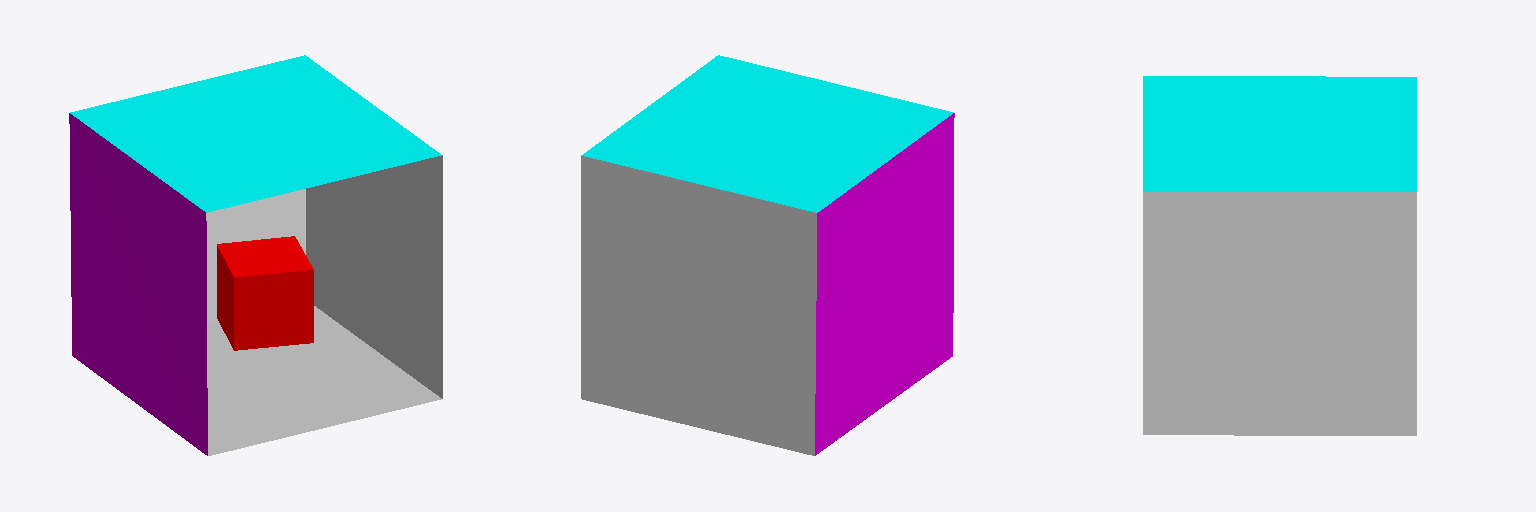
File: glass-cube.obj
The picture shows the model from 3 angles: view 1: azimuth 30°, elevation 25°; view 2: azimuth 150°, elevation 25°; view 3: azimuth 270°, elevation 25°; orthographic projection.
Visible parts, largest first — view 1: left_wall, ceiling, right_wall, floor, short_box, back_wall; view 2: back_wall, left_wall, ceiling; view 3: right_wall, ceiling.
Boxes of the visible parts, x1,y1,x2,y2 form: left_wall: [69, 113, 207, 455]; ceiling: [70, 55, 441, 212]; right_wall: [306, 155, 442, 398]; floor: [207, 306, 441, 455]; short_box: [217, 236, 313, 350]; back_wall: [206, 189, 305, 322]; back_wall: [581, 156, 816, 455]; left_wall: [815, 113, 954, 455]; ceiling: [581, 55, 953, 212]; right_wall: [1143, 192, 1416, 435]; ceiling: [1143, 76, 1416, 191].
Size of the model in its own units: 5.56 by 5.49 by 5.6.